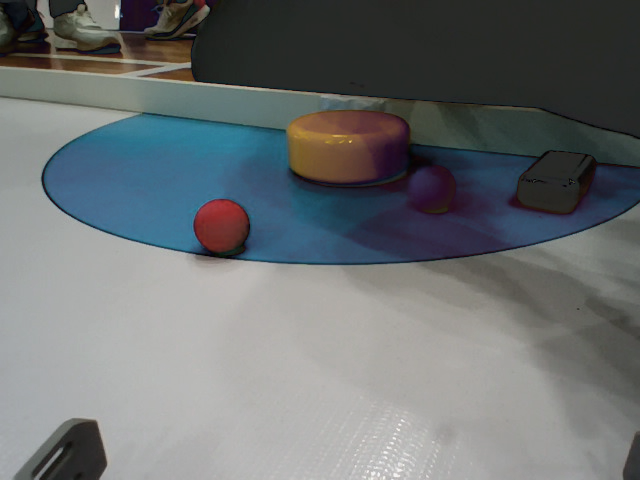black: (511, 144, 597, 215)
blue: (402, 165, 462, 218)
red: (192, 196, 265, 259)
yellow: (281, 108, 413, 186)
